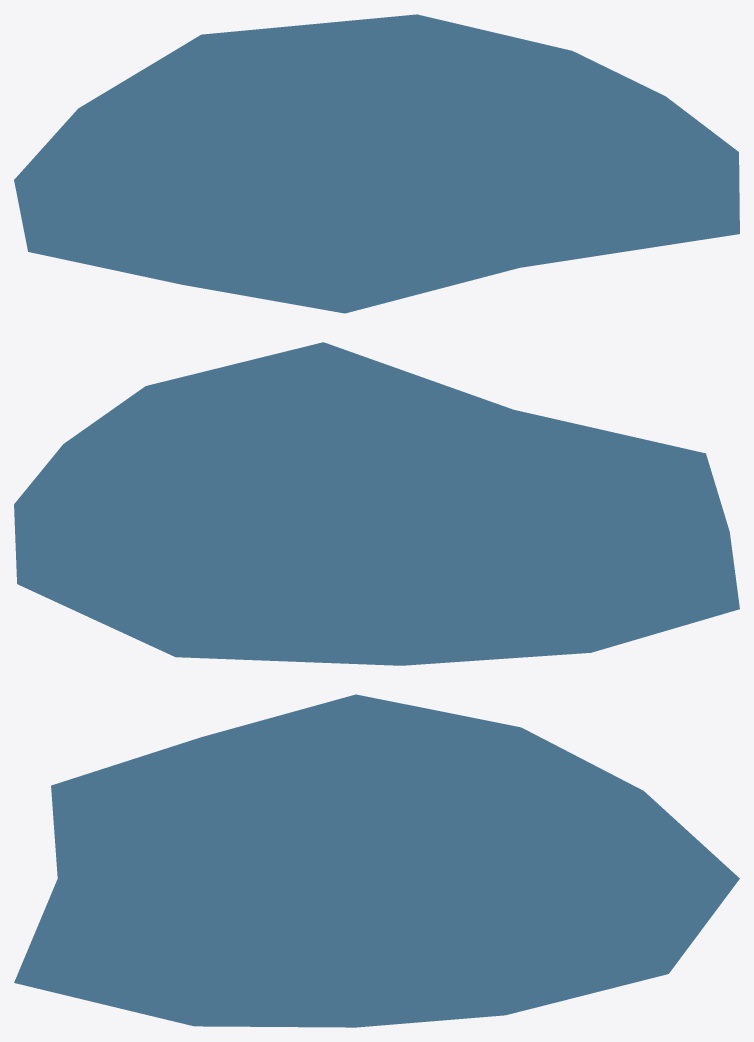
File: Decal_Puddle_Large.glb
The picture shows the model from 3 angles, top to bottom: view 1: azimuth 30°, elevation 25°; view 2: azimuth 150°, elevation 25°; view 3: azimuth 270°, elevation 25°; orthographic projection. The views are drawn at different scales.
Visible parts, largest first — view 1: Decal_Puddle_Large_Water; view 2: Decal_Puddle_Large_Water; view 3: Decal_Puddle_Large_Water.
Part boxes in pixels (x1,y1,x2,y2): Decal_Puddle_Large_Water: [14, 14, 739, 313]; Decal_Puddle_Large_Water: [14, 342, 739, 665]; Decal_Puddle_Large_Water: [14, 694, 739, 1027].
Bounding box in the file's own units: 2.51 × 0 × 2.31.
